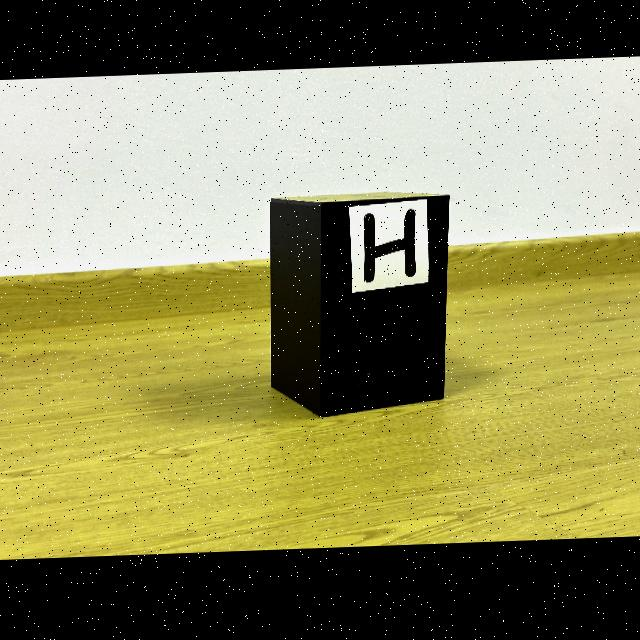H: (364, 212, 416, 285)
